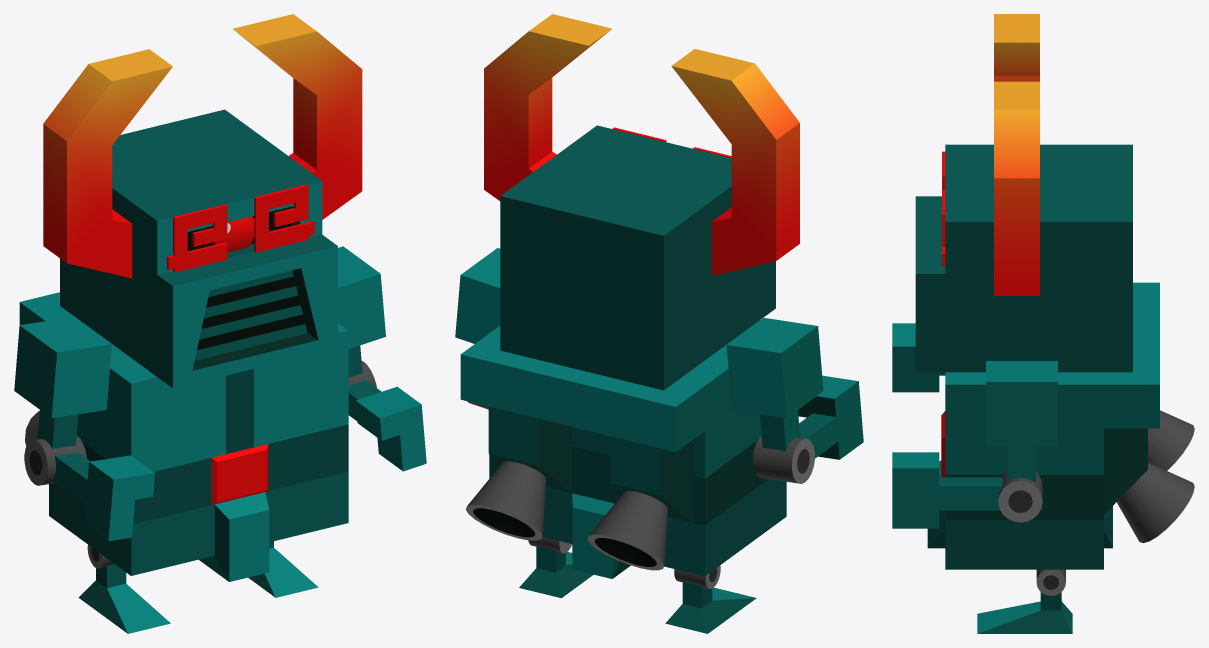
3 views of the same model, side by side, from view 1: azimuth 30°, elevation 25°; view 2: azimuth 150°, elevation 25°; view 3: azimuth 270°, elevation 25° (orthographic). The views are drawn at different scales.
Visible parts, largest first — view 1: Ch_206, Ch_206_Head, Ch_206_Jaw_L, Ch_206_Arm_L, Ch_206_Jaw_R, Ch_206_Arm_R, Ch_206_Leg_L, Ch_206_Eye_03_L, Ch_206_Eye_03_R, Ch_206_Eye_02, Ch_206_Leg_R, Ch_206_Eye_01; view 2: Ch_206, Ch_206_Head, Ch_206_Jaw_L, Ch_206_Arm_L, Ch_206_Jaw_R, Ch_206_Arm_R, Ch_206_Leg_L, Ch_206_Leg_R; view 3: Ch_206_Head, Ch_206, Ch_206_Arm_R, Ch_206_Jaw_R, Ch_206_Leg_R, Ch_206_Jaw_L, Ch_206_Arm_L.
Part boxes in pixels (bbox=[...]): Ch_206: bbox=[19, 292, 348, 581]; Ch_206_Head: bbox=[60, 109, 337, 388]; Ch_206_Jaw_L: bbox=[43, 49, 172, 278]; Ch_206_Arm_L: bbox=[14, 317, 154, 541]; Ch_206_Jaw_R: bbox=[232, 14, 362, 219]; Ch_206_Arm_R: bbox=[338, 246, 426, 471]; Ch_206_Leg_L: bbox=[78, 545, 170, 633]; Ch_206_Eye_03_L: bbox=[173, 204, 227, 272]; Ch_206_Eye_03_R: bbox=[254, 184, 308, 252]; Ch_206_Eye_02: bbox=[167, 221, 314, 269]; Ch_206_Leg_R: bbox=[248, 541, 318, 597]; Ch_206_Eye_01: bbox=[213, 216, 254, 252]; Ch_206: bbox=[460, 320, 786, 578]; Ch_206_Head: bbox=[500, 125, 775, 390]; Ch_206_Jaw_L: bbox=[671, 49, 799, 275]; Ch_206_Arm_L: bbox=[726, 318, 863, 483]; Ch_206_Jaw_R: bbox=[484, 14, 611, 200]; Ch_206_Arm_R: bbox=[455, 248, 500, 409]; Ch_206_Leg_L: bbox=[665, 565, 756, 633]; Ch_206_Leg_R: bbox=[519, 537, 593, 598]; Ch_206_Head: bbox=[915, 144, 1132, 372]; Ch_206: bbox=[927, 282, 1194, 569]; Ch_206_Arm_R: bbox=[892, 361, 1057, 528]; Ch_206_Jaw_R: bbox=[994, 81, 1039, 295]; Ch_206_Leg_R: bbox=[977, 569, 1072, 633]; Ch_206_Jaw_L: bbox=[994, 14, 1039, 81]; Ch_206_Arm_L: bbox=[892, 323, 945, 392].
Bounding box in the file's own units: 8.3 × 12.99 × 6.76.
